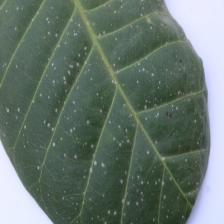red rust: (0, 0, 211, 224)
